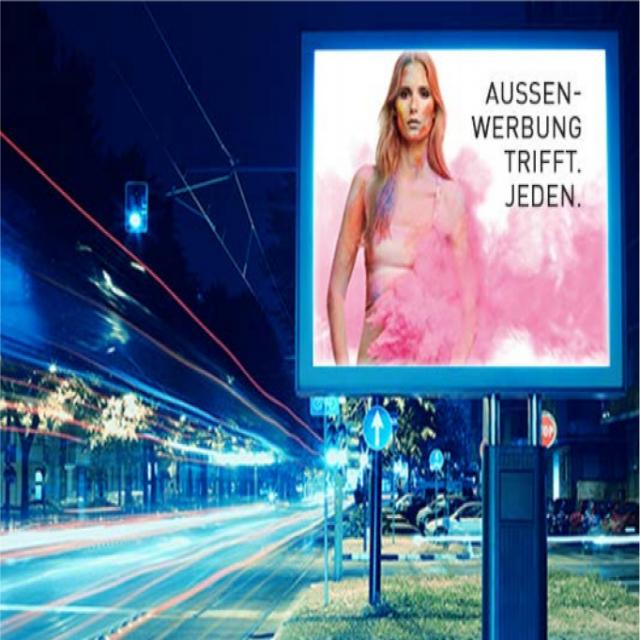Werbetafel frei: (295, 32, 631, 399)
